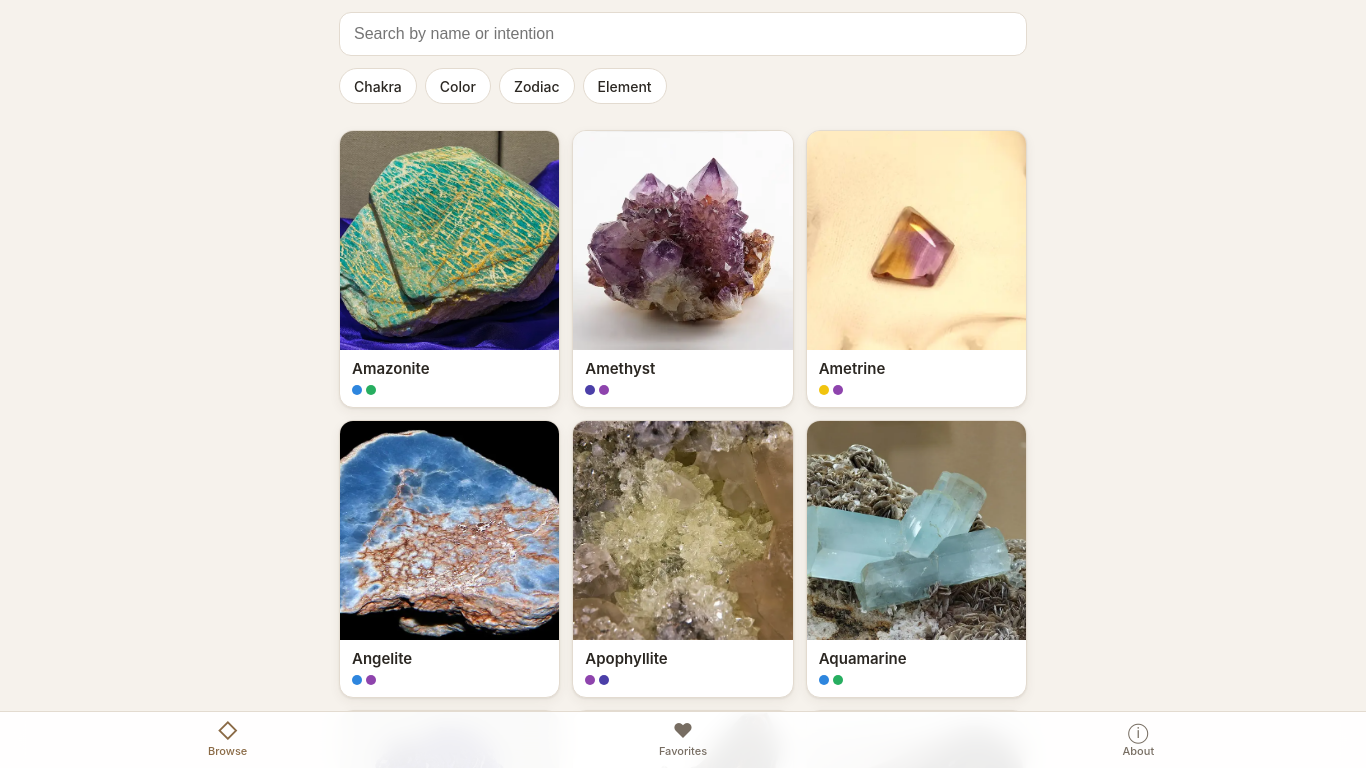
Test: tab bar navigates to About
The image size is (1366, 768).
Click the link "ⓘ About" at [1138, 738], box top-left (1122, 719), bottom-right (1154, 758)
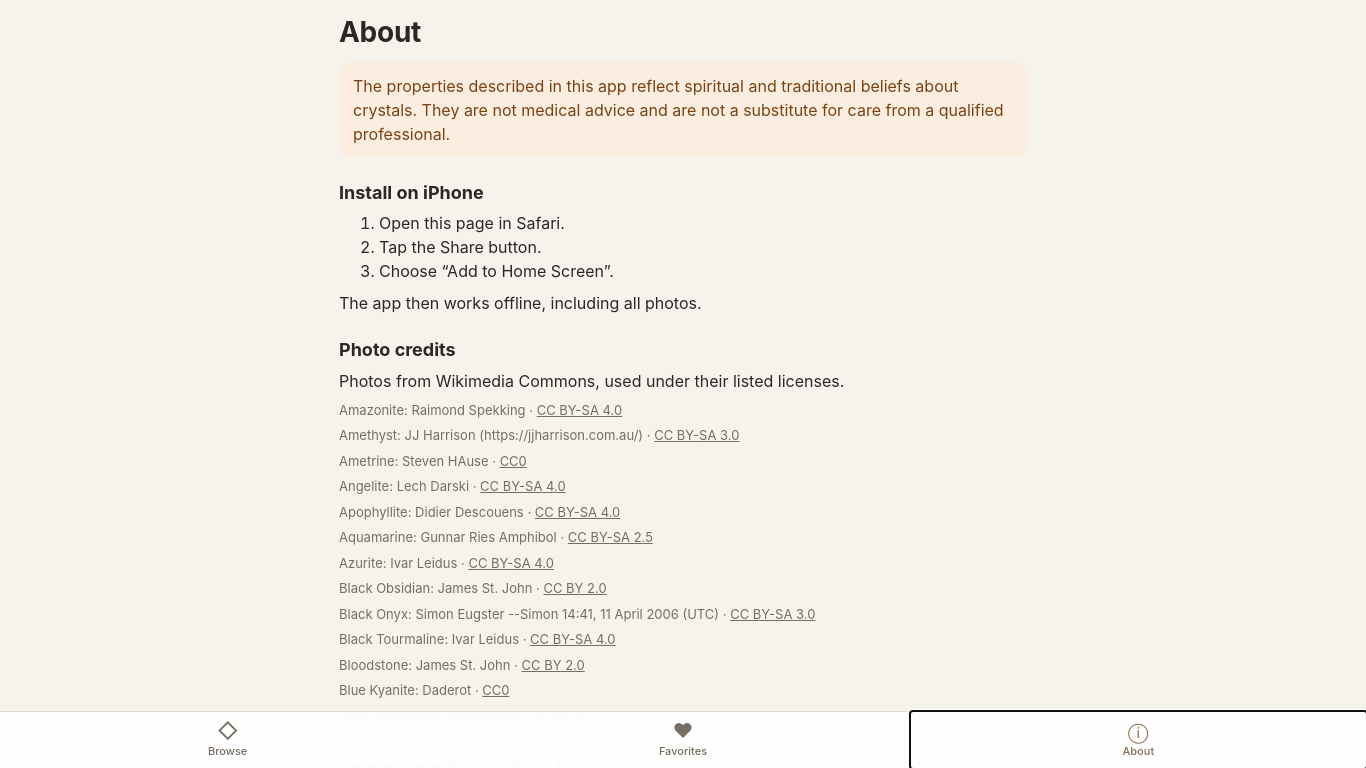
Expected: the heading "About" is shown, top-left (339, 15), bottom-right (421, 49)
